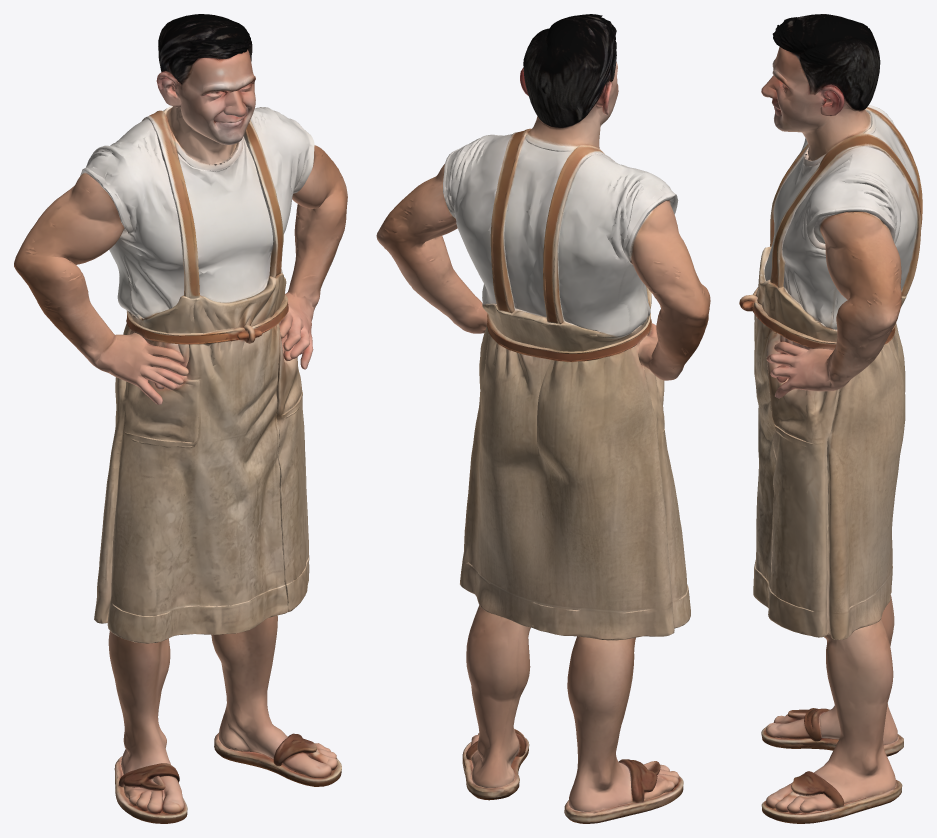
File: crowd_baker_rodin_source.glb
3 views of the same model, side by side, from view 1: azimuth 30°, elevation 25°; view 2: azimuth 150°, elevation 25°; view 3: azimuth 270°, elevation 25° (orthographic). The views are drawn at different scales.
Visible parts, largest first — view 1: model; view 2: model; view 3: model.
Part boxes in pixels (x1,y1,x2,y2): model: (14,14,347,823); model: (376,14,710,823); model: (739,14,922,823).
Size of the model in its own units: 0.8534 by 1.9 by 0.4205.
1 material, 1 textured.
